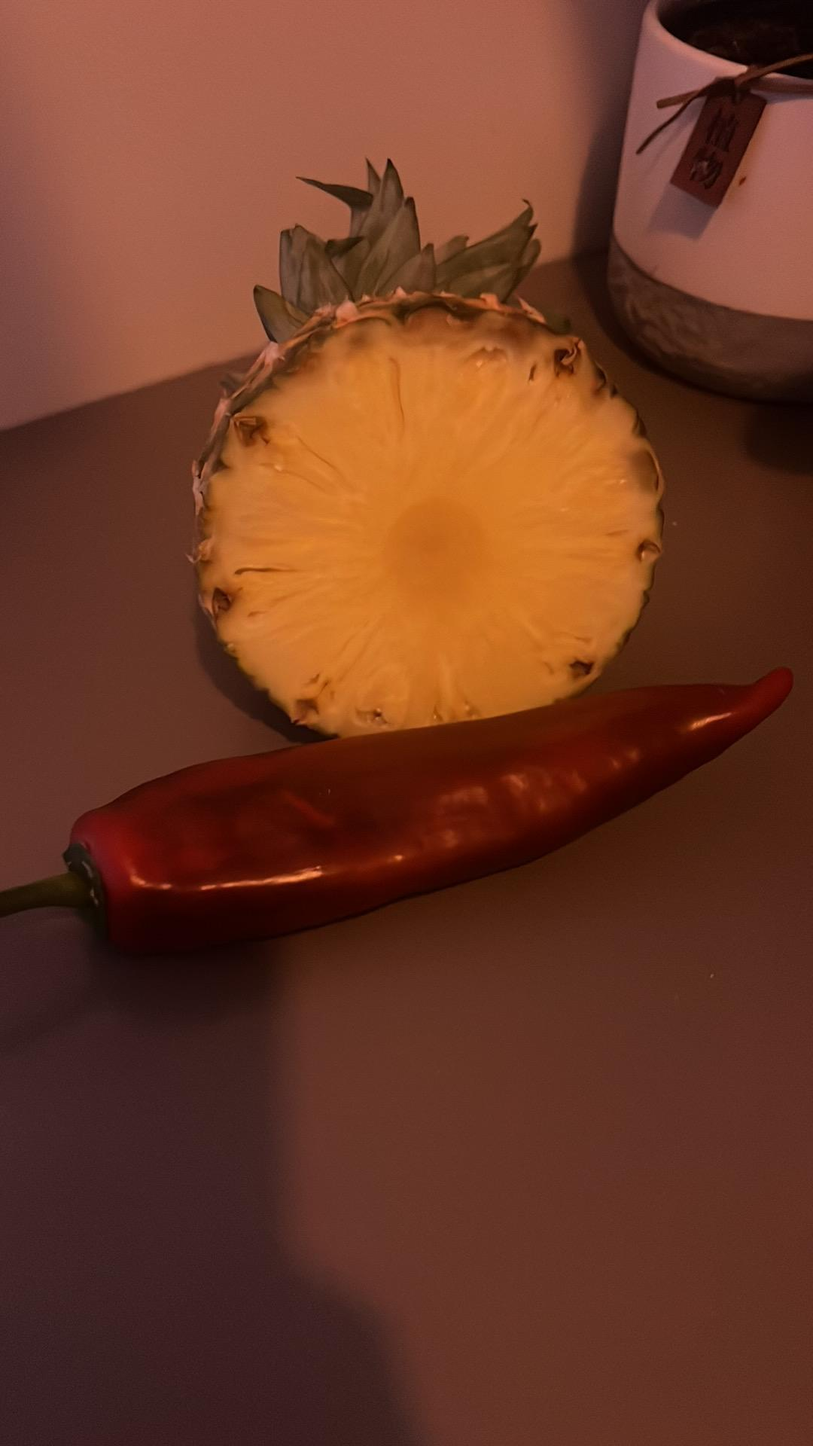pineapple: (178, 196, 713, 768)
